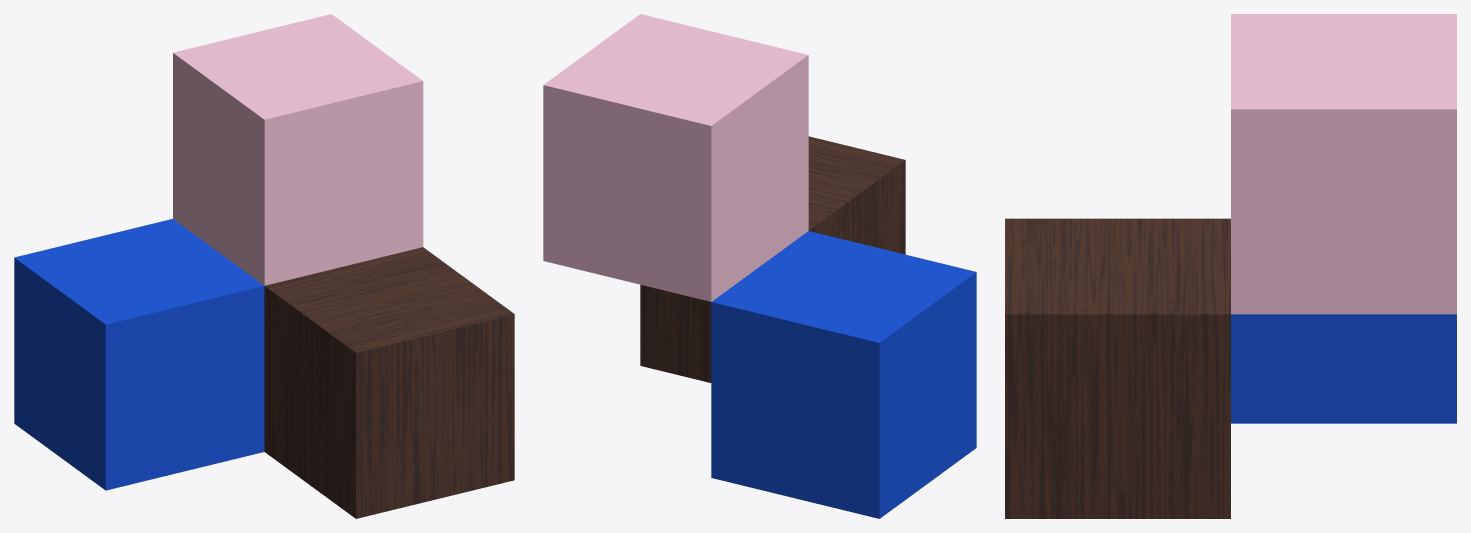
Rendered from Demo 3D Variantes.gltf.
3 renders of one model, left to right at view 1: azimuth 30°, elevation 25°; view 2: azimuth 150°, elevation 25°; view 3: azimuth 270°, elevation 25°, orthographic. The views are drawn at different scales.
Visible parts, largest first — view 1: CuboMadera, CuboMetal, CuboColor; view 2: CuboColor, CuboMetal, CuboMadera; view 3: CuboMetal, CuboMadera, CuboColor.
Boxes of the visible parts, left/top/right/bottom form: CuboMadera: left=264, top=247, right=514, bottom=518; CuboMetal: left=173, top=14, right=423, bottom=285; CuboColor: left=14, top=219, right=264, bottom=490; CuboColor: left=711, top=231, right=976, bottom=518; CuboMetal: left=543, top=14, right=808, bottom=301; CuboMadera: left=640, top=136, right=905, bottom=382; CuboMetal: left=1231, top=14, right=1456, bottom=314; CuboMadera: left=1005, top=218, right=1230, bottom=518; CuboColor: left=1231, top=314, right=1456, bottom=423.
Size of the model in its own units: 4 by 4 by 4.
Materials: 3 (1 with a texture image).
